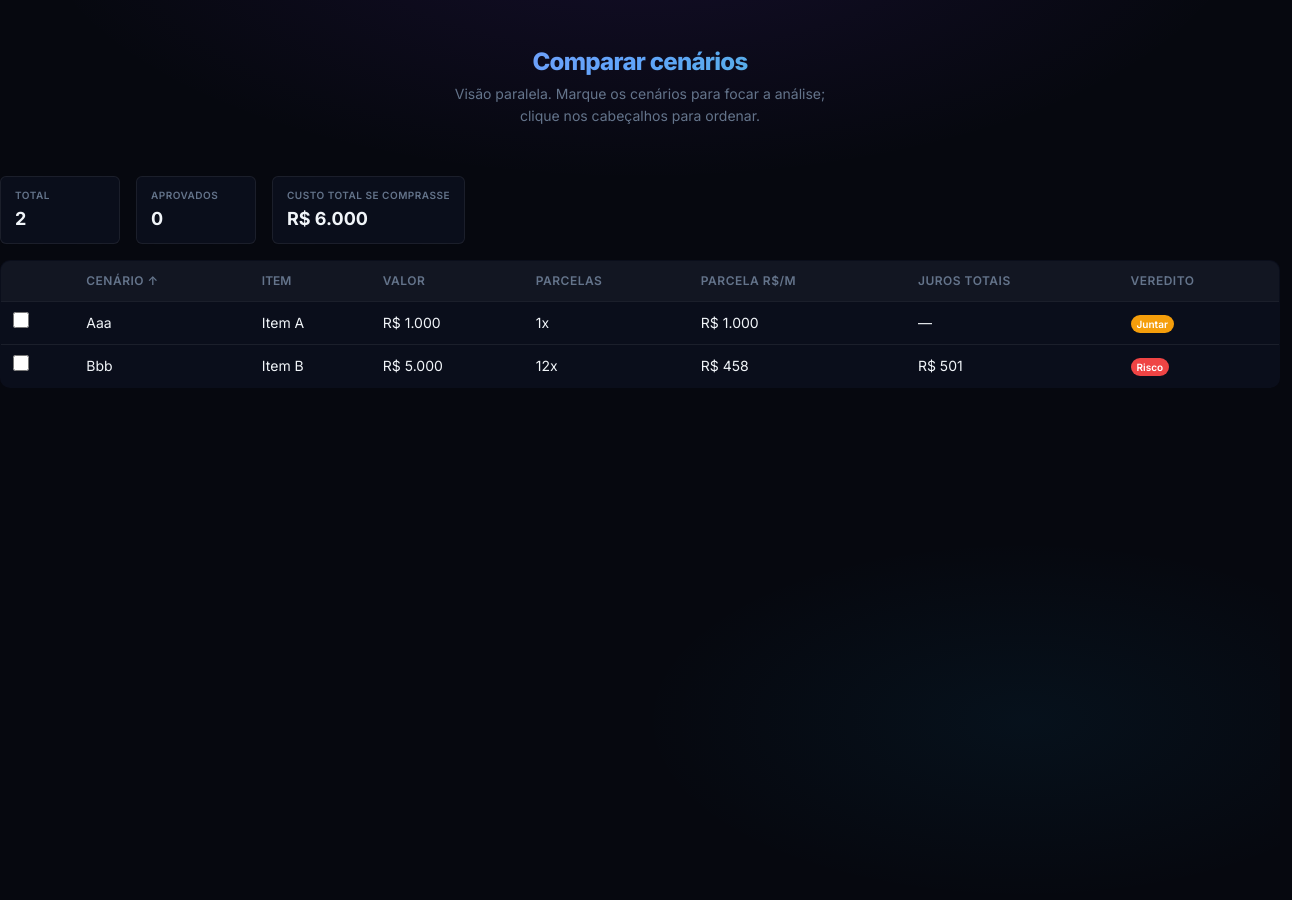
Test case: CompararPage › mostra botão "Limpar seleção" quando há seleção e o usa para limpar
Click the checkbox named "Selecionar Aaa". click: (21, 320)
box: [13, 312, 29, 328]
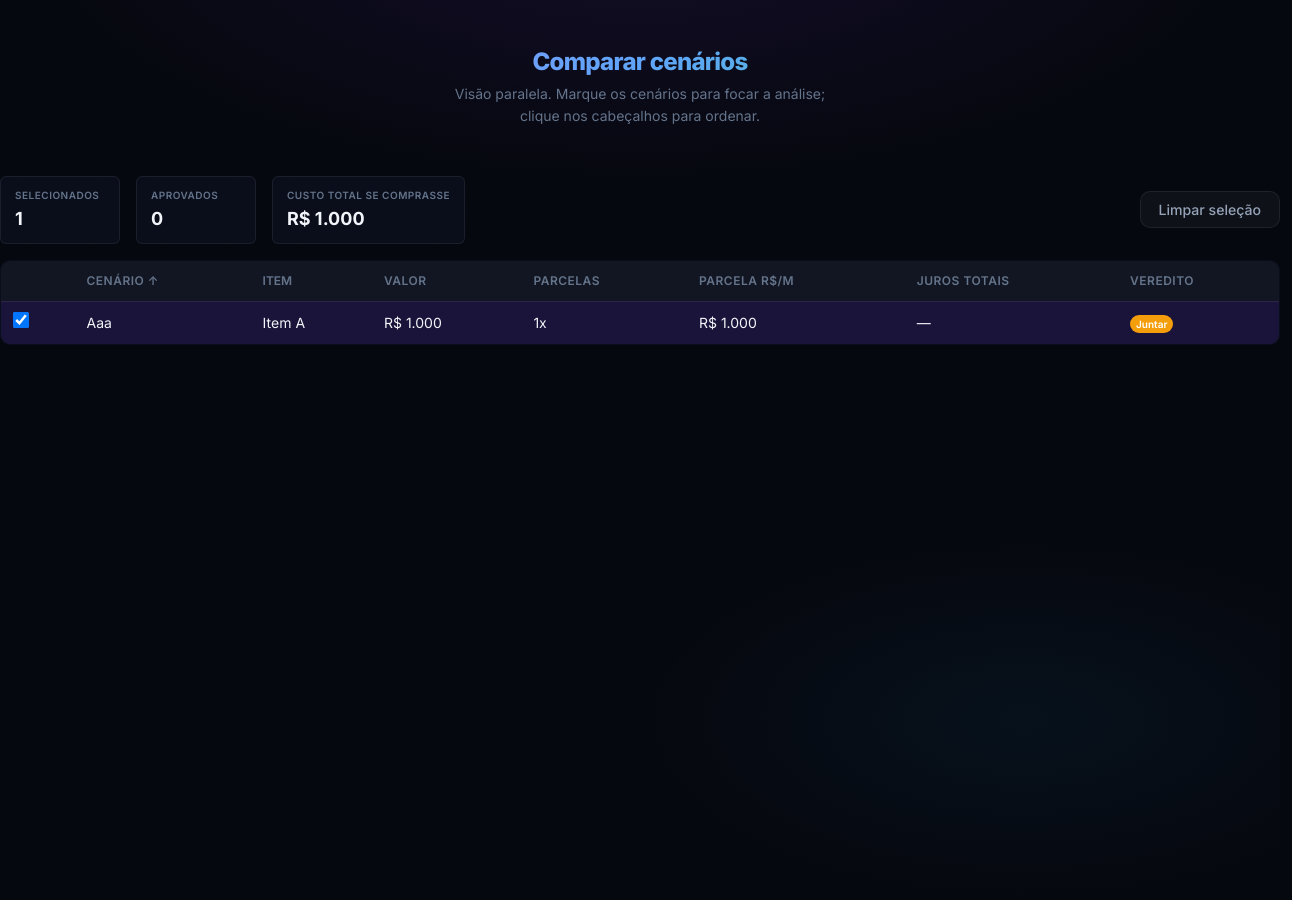
Click the button "Limpar seleção". click: (1210, 210)
box: [1140, 192, 1280, 228]
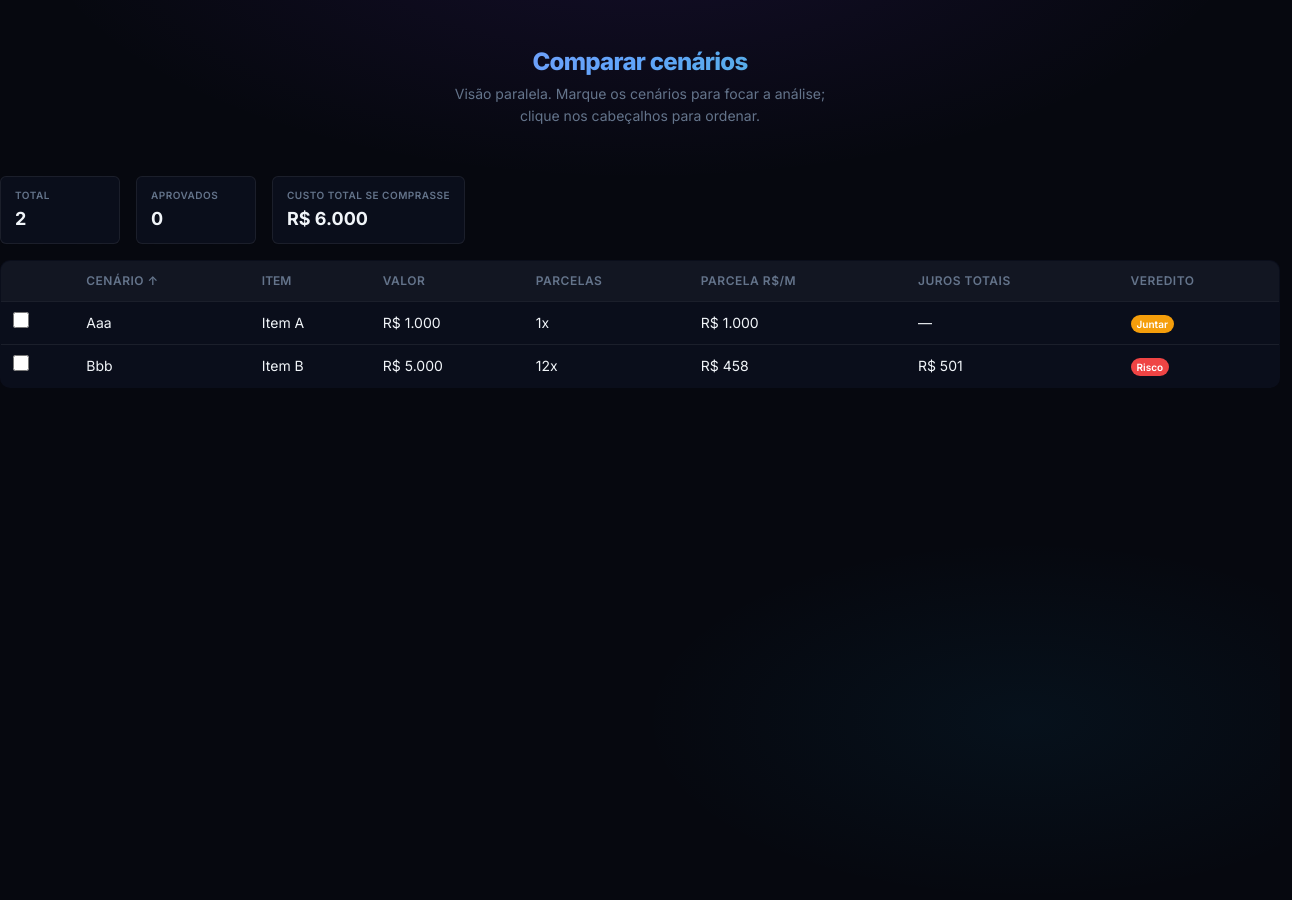
Check: the button "Limpar seleção" is gone
Check: the text "Total" is shown, box [15, 189, 50, 201]
